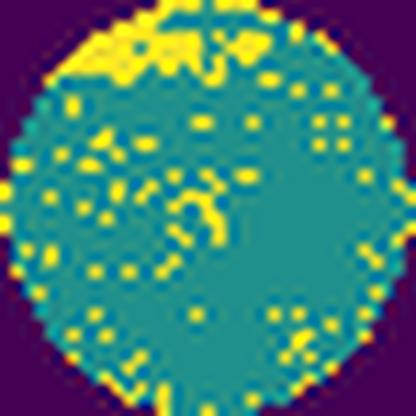Edge-Loc: (38, 0, 283, 91)
